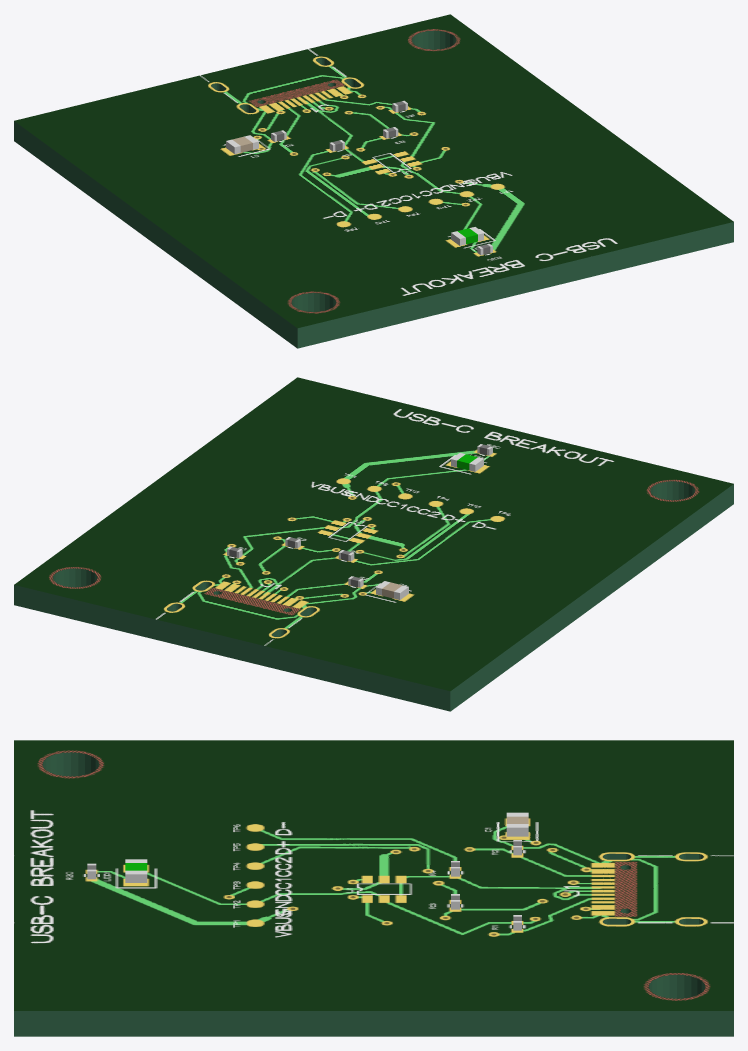
The picture shows the model from 3 angles, top to bottom: view 1: azimuth 30°, elevation 25°; view 2: azimuth 150°, elevation 25°; view 3: azimuth 270°, elevation 25°; orthographic projection. The views are drawn at different scales.
Visible parts, largest first — view 1: Box0; view 2: Box0; view 3: Box0, C1, LED1.
Part boxes in pixels (x1,y1,x2,y2): Box0: (14,14,733,348); Box0: (14,377,733,711); Box0: (14,740,733,1036); C1: (506,812,528,836); LED1: (125,859,147,882).
Size of the model in its own units: 36 by 2.15 by 40.5.
7 materials, 2 textured.
